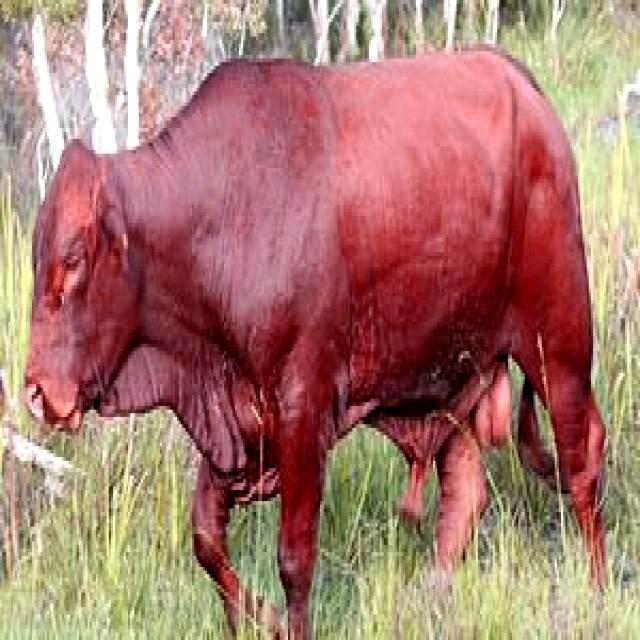COW: (26, 51, 604, 640)
